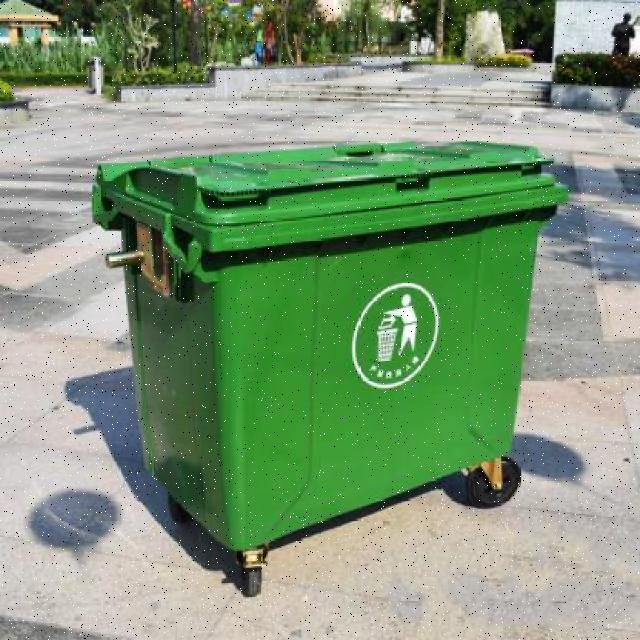garbage container: (78, 131, 595, 617)
